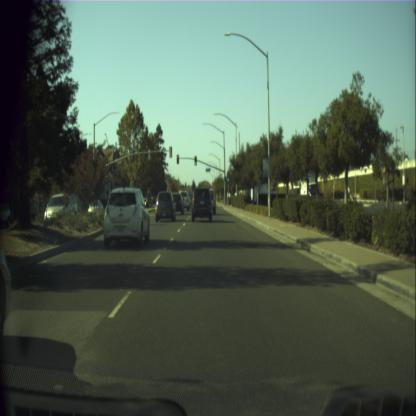Green: (194, 156, 196, 165), (224, 176, 226, 184), (227, 176, 229, 181)
Red: (176, 154, 179, 164)
